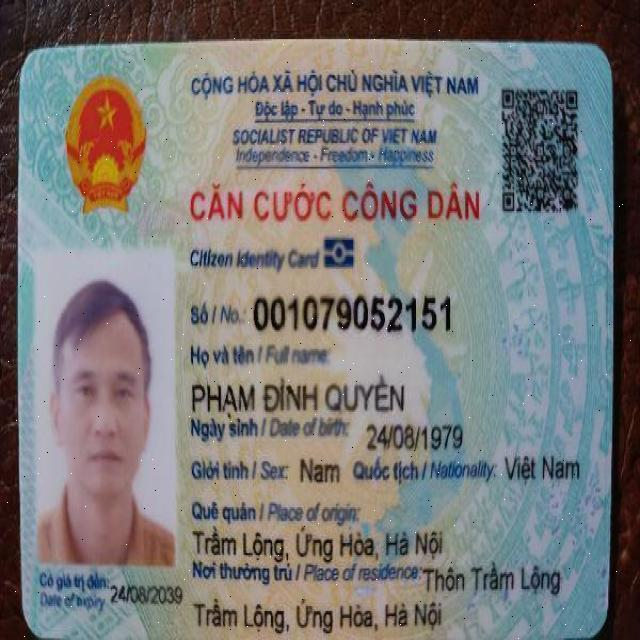current_place: (193, 592, 445, 633), (422, 562, 562, 599)
dob: (363, 419, 463, 454)
expire_date: (110, 579, 183, 608)
gender: (299, 446, 345, 483)
id: (251, 291, 452, 339)
name: (187, 373, 405, 419)
nationality: (504, 445, 586, 484)
origin_place: (188, 525, 445, 561)
